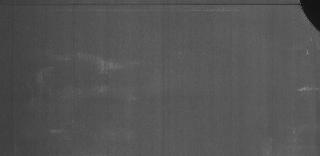welding line: (1, 1, 308, 8)
